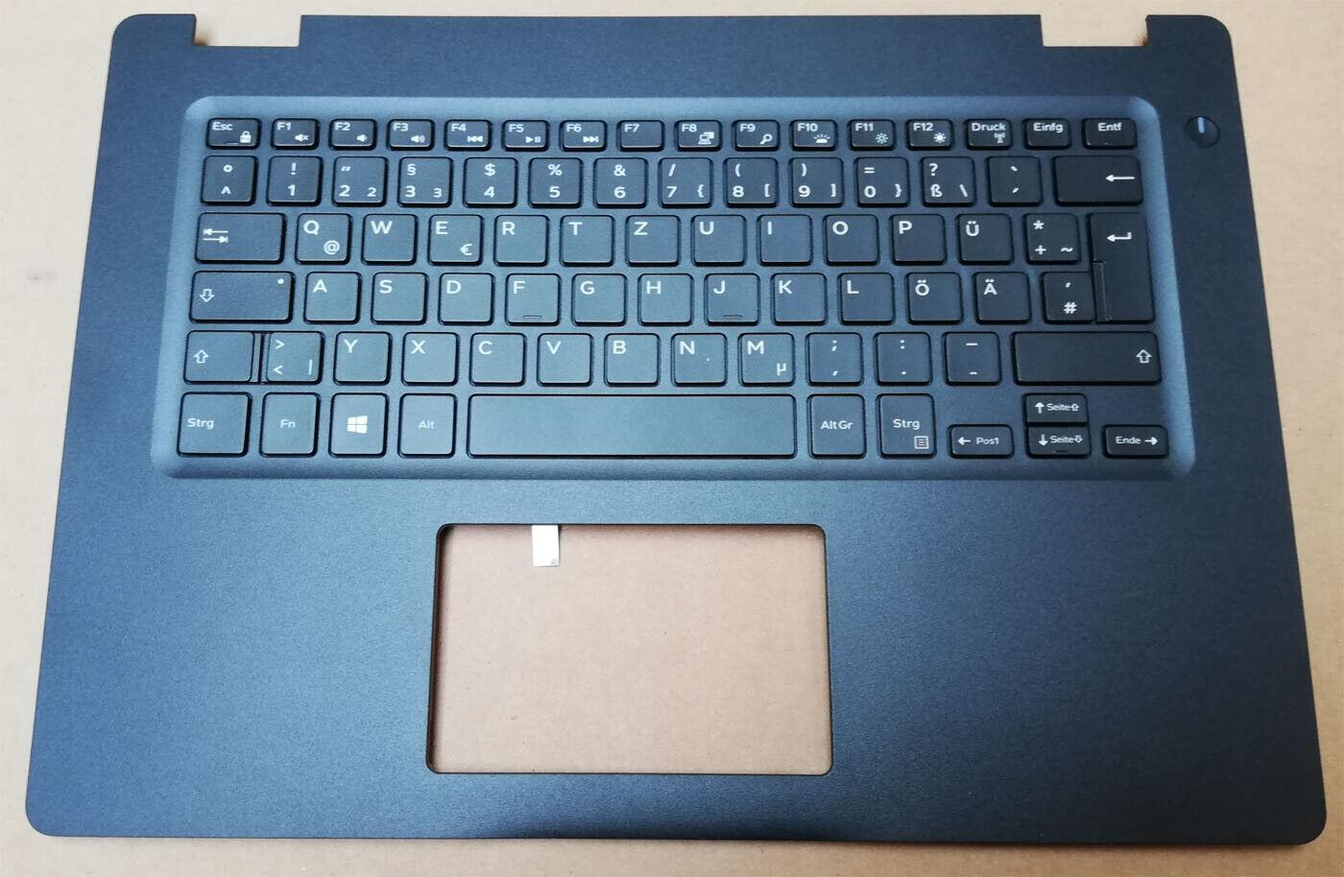0: (852, 153, 908, 204)
1: (264, 152, 319, 201)
2: (329, 153, 386, 202)
3: (395, 154, 450, 204)
4: (462, 153, 516, 203)
5: (527, 154, 582, 203)
6: (592, 154, 647, 204)
7: (657, 154, 711, 205)
8: (721, 154, 777, 205)
9: (786, 154, 842, 204)
a: (302, 269, 358, 320)
accent: (985, 152, 1039, 202)
ae: (971, 268, 1028, 321)
alt-left: (396, 391, 454, 455)
altgr-right: (805, 391, 864, 456)
b: (601, 330, 658, 384)
c: (467, 329, 524, 383)
caret: (199, 153, 253, 201)
comma: (804, 328, 861, 381)
d: (436, 269, 492, 322)
del: (1051, 151, 1141, 202)
e: (425, 210, 481, 263)
enter: (1086, 208, 1151, 321)
f: (502, 270, 558, 322)
g: (569, 271, 624, 322)
h: (636, 270, 691, 322)
hash: (1040, 267, 1093, 320)
i: (755, 211, 810, 263)
j: (702, 270, 757, 322)
k: (769, 270, 826, 322)
keyboard: (158, 94, 1198, 481)
l: (836, 269, 892, 321)
less: (262, 327, 322, 381)
m: (735, 329, 794, 384)
minus: (940, 327, 999, 381)
n: (668, 329, 726, 384)
o: (820, 210, 876, 263)
oe: (902, 269, 960, 321)
p: (887, 210, 944, 262)
plus: (1020, 208, 1079, 262)
point: (873, 328, 930, 381)
q: (293, 209, 349, 261)
r: (492, 211, 546, 264)
s: (369, 269, 424, 321)
shift-left: (180, 326, 252, 381)
shift-lock: (186, 267, 293, 320)
shift-right: (1009, 325, 1159, 382)
space: (468, 391, 793, 456)
ss: (917, 153, 973, 204)
strg-left: (173, 388, 248, 455)
strg-right: (875, 390, 935, 456)
t: (558, 211, 612, 264)
tab: (192, 208, 282, 260)
u: (688, 211, 745, 264)
ue: (953, 209, 1011, 262)
v: (535, 329, 590, 384)
w: (359, 209, 416, 263)
x: (400, 328, 456, 383)
y: (332, 328, 390, 382)
z: (623, 211, 679, 264)
